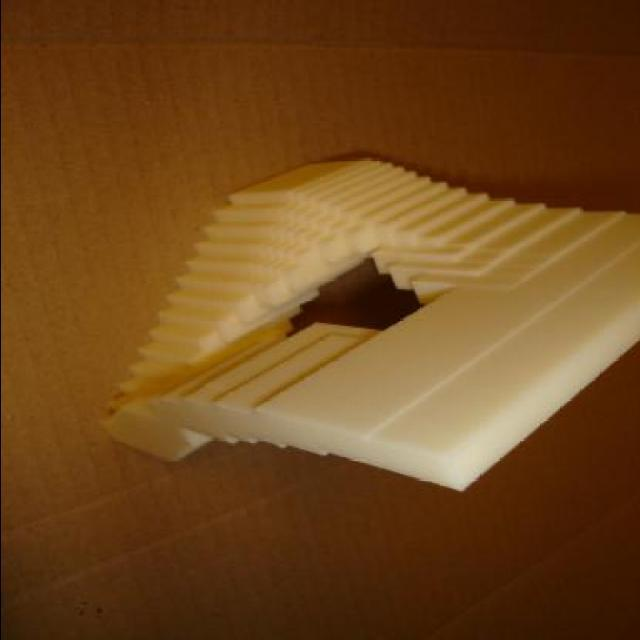Cheese: (102, 157, 640, 496)
